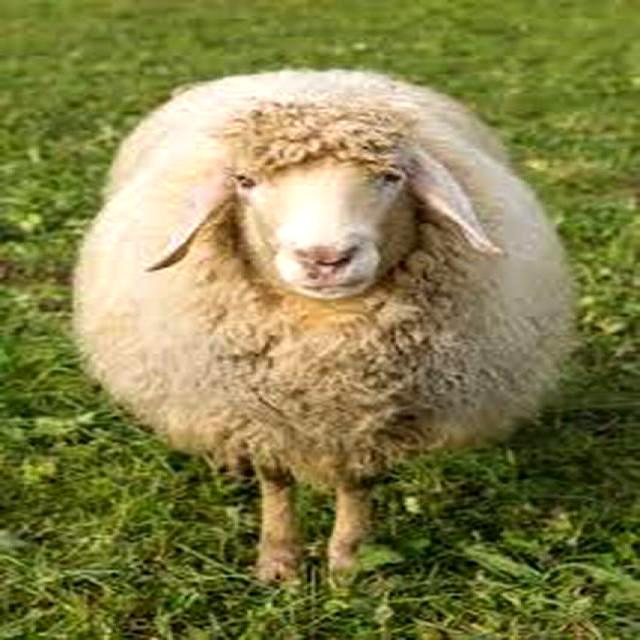sheep: (72, 73, 580, 589)
